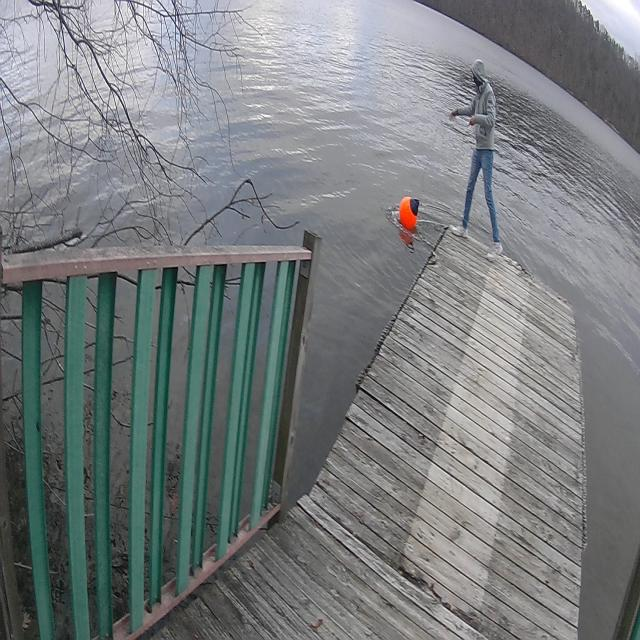Buoy: (398, 192, 421, 234)
